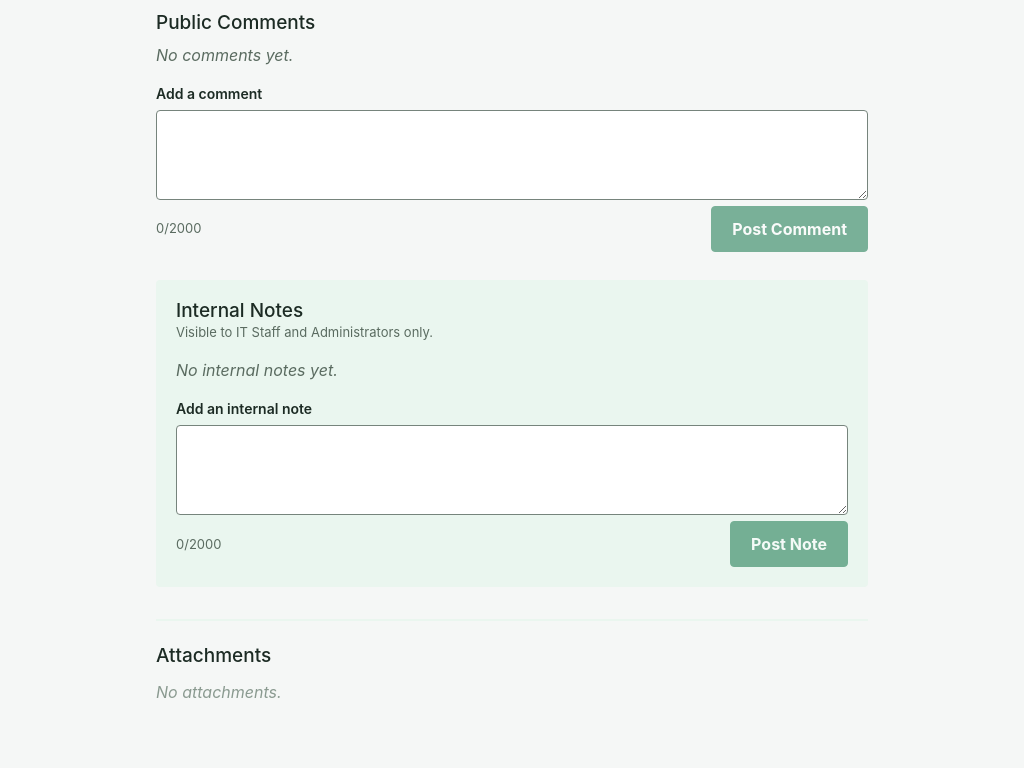
Scenario: UI-STAFF-01 — Staff Ticket Detail (AC-11–14) › keeps a successful internal note after refresh failure
(page scrolled)
Type "Saved note." into the text box labelled "Add an internal note" at (512, 470), box [176, 425, 848, 515]
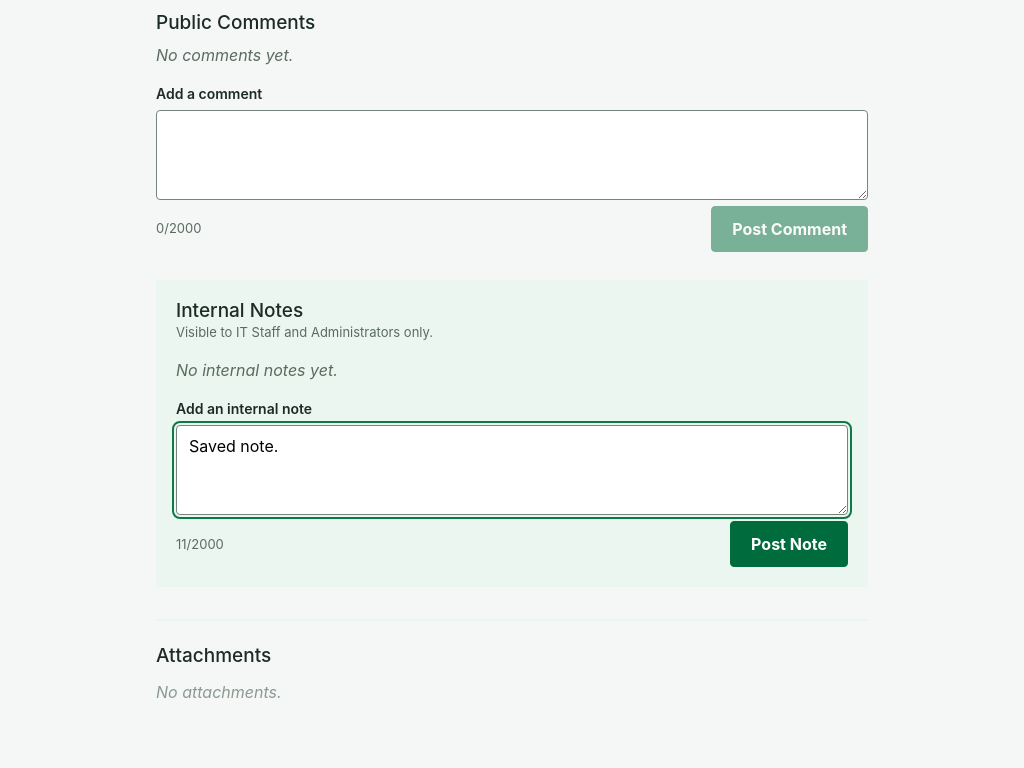
Click the button "Post Note" at (789, 544), box [730, 521, 848, 567]
(page scrolled)
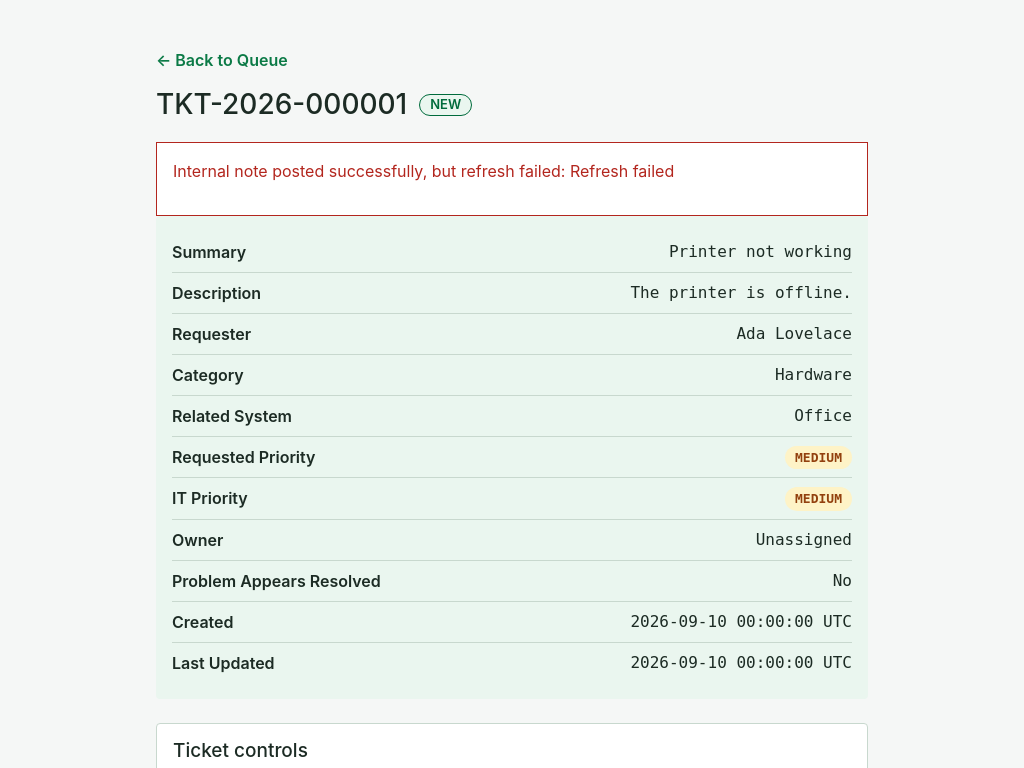
Now the message shows "Internal note posted successfully", box [173, 161, 674, 181]
